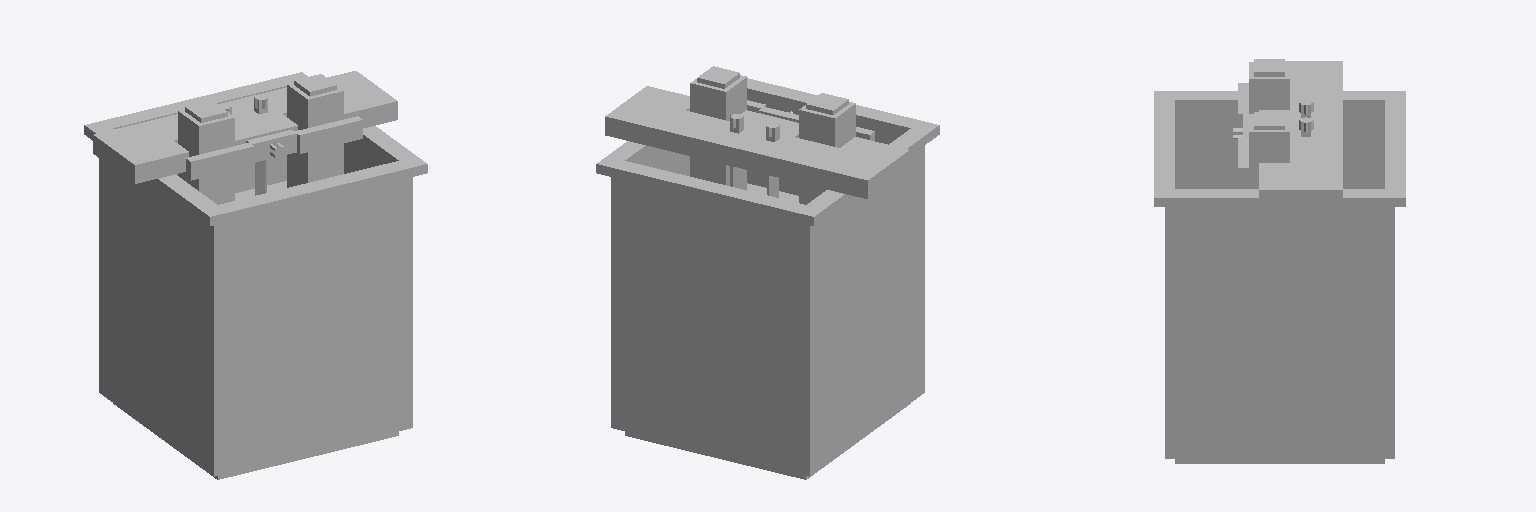
Rendered from electrolysis.obj.
3 views of the same model, side by side, from view 1: azimuth 30°, elevation 25°; view 2: azimuth 150°, elevation 25°; view 3: azimuth 270°, elevation 25° (orthographic).
Size of the model in its own units: 1.81 by 2.16 by 1.5.